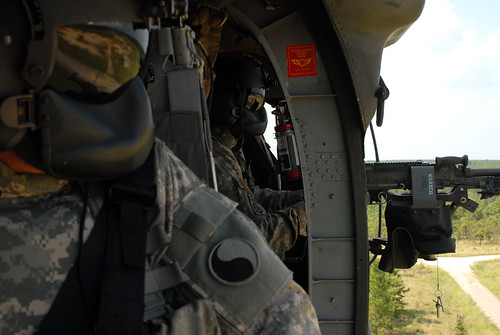sky: (380, 1, 500, 146)
soldier: (1, 1, 207, 335), (209, 63, 298, 235)
weapon: (360, 149, 500, 235)
